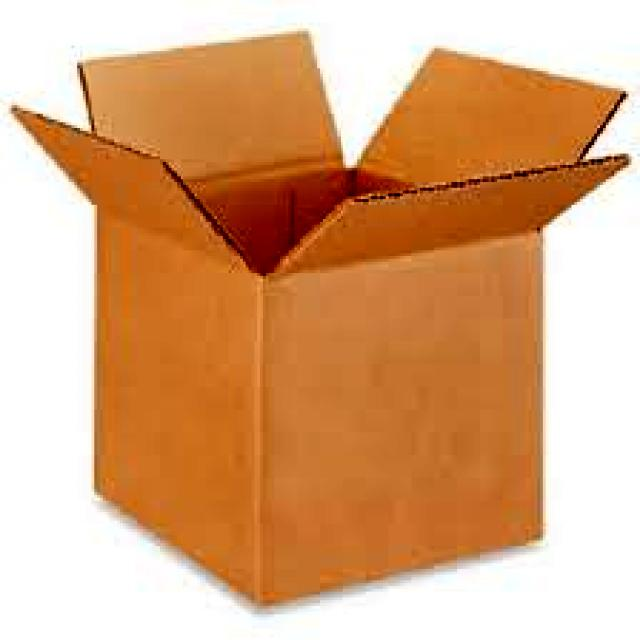cardboard: (12, 29, 632, 612)
